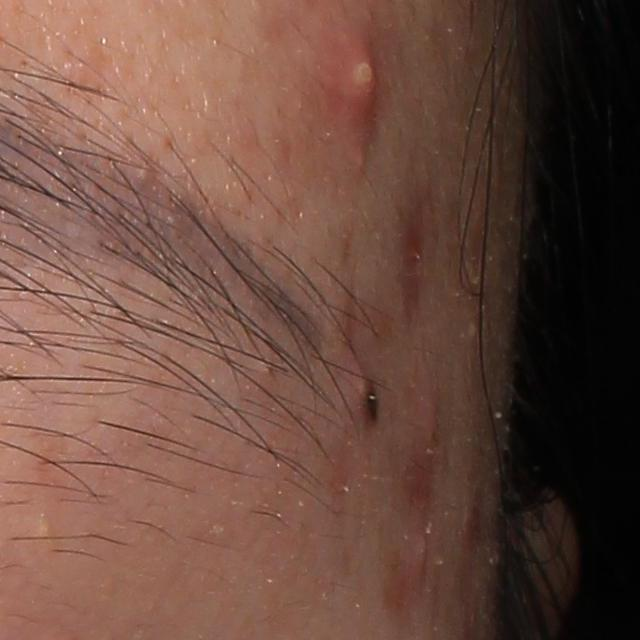comedo: (32, 517, 54, 541)
nevus: (359, 376, 383, 427)
papule: (417, 396, 447, 456)
pustule: (331, 27, 382, 129)
